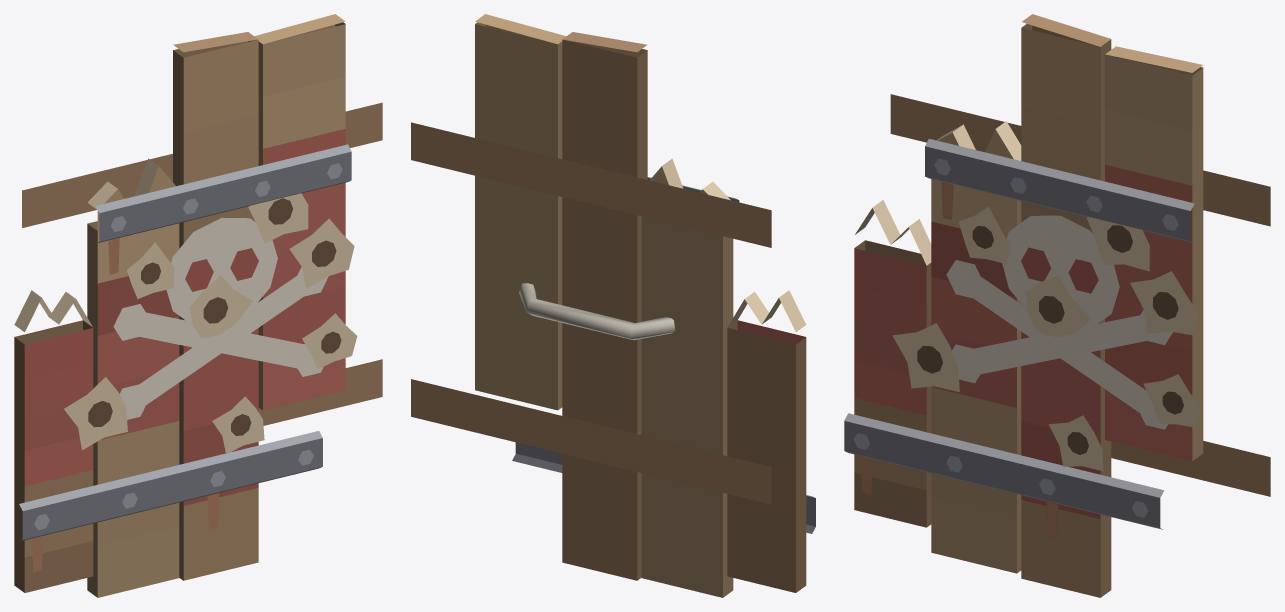
File: shield_wrecked.glb
3 views of the same model, side by side, from view 1: azimuth 30°, elevation 25°; view 2: azimuth 150°, elevation 25°; view 3: azimuth 330°, elevation 25° (orthographic). The views are drawn at different scales.
Visible parts, largest first — view 1: shield_wrecked; view 2: shield_wrecked; view 3: shield_wrecked.
Part boxes in pixels (x1,y1,x2,y2): shield_wrecked: (14, 14, 382, 597); shield_wrecked: (411, 14, 815, 597); shield_wrecked: (844, 14, 1270, 597).
Bounding box in the file's own units: 1.06 × 1.4 × 0.1744.
